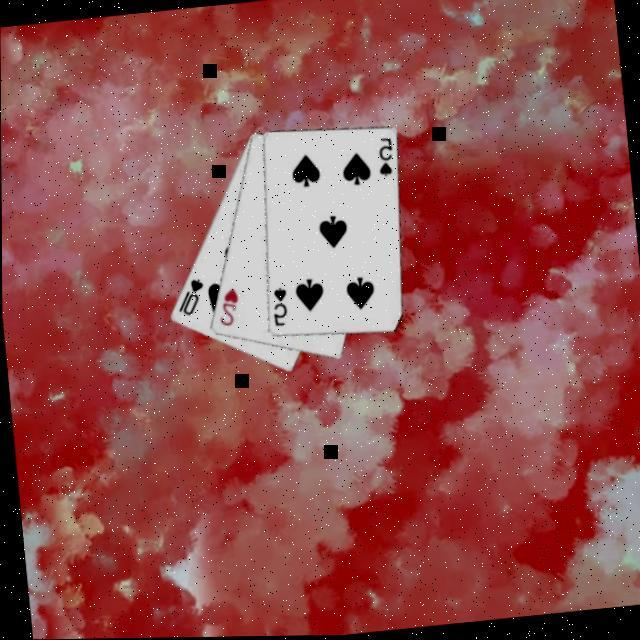10S: (169, 274, 205, 320)
2H: (210, 284, 240, 330)
5S: (264, 284, 288, 330), (370, 134, 394, 180)
